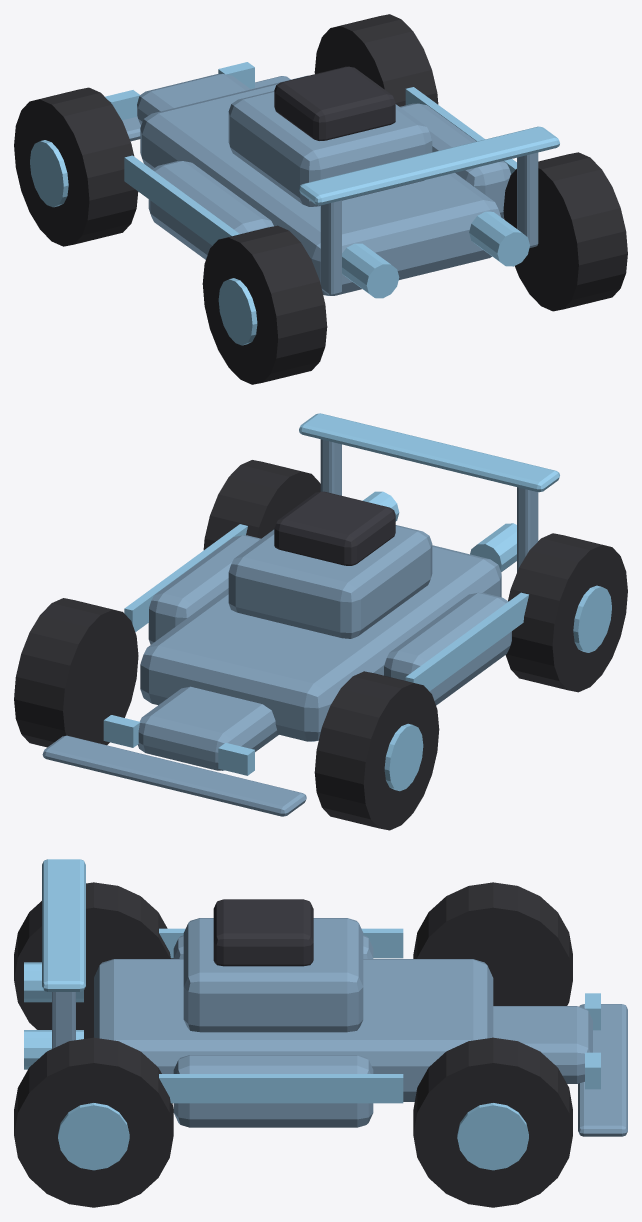
File: Kart_Neon_02.fbx
3 views of the same model, one above another, from view 1: azimuth 30°, elevation 25°; view 2: azimuth 150°, elevation 25°; view 3: azimuth 270°, elevation 25° (orthographic). The views are drawn at different scales.
Visible parts, largest first — view 1: Chassis, Wheel_3, Wheel_1, Wheel_2, Cockpit, Wheel_0, RearWing, Seat, PodRight, StripRight, PodLeft, Nose (+10 smaller); view 2: Chassis, Cockpit, Wheel_0, Wheel_2, Wheel_3, Nose, FrontWing, RearWing, Seat, Wheel_1, PodRight, PodLeft (+9 smaller); view 3: Chassis, Wheel_0, Wheel_1, Cockpit, Wheel_2, Wheel_3, PodLeft, StripLeft, Seat, RearWing, Nose, FrontWing (+7 smaller).
Boxes of the visible parts, <box> form: Chassis: <box>140,75,500,295</box>; Wheel_3: <box>202,225,327,384</box>; Wheel_1: <box>503,152,627,311</box>; Wheel_2: <box>14,87,138,246</box>; Cockpit: <box>228,91,432,206</box>; Wheel_0: <box>314,14,438,106</box>; RearWing: <box>299,126,559,205</box>; Seat: <box>274,66,395,140</box>; PodRight: <box>148,161,273,259</box>; StripRight: <box>124,155,239,245</box>; PodLeft: <box>400,103,511,218</box>; Nose: <box>137,73,250,125</box>; Chassis: <box>140,545,501,741</box>; Cockpit: <box>228,525,432,638</box>; Wheel_0: <box>14,598,138,747</box>; Wheel_2: <box>314,671,439,830</box>; Wheel_3: <box>505,533,627,692</box>; Nose: <box>138,686,278,770</box>; FrontWing: <box>42,735,306,816</box>; RearWing: <box>299,413,559,492</box>; Seat: <box>274,491,395,565</box>; Wheel_1: <box>203,460,320,549</box>; PodRight: <box>384,592,511,705</box>; PodLeft: <box>148,535,260,644</box>; Chassis: <box>94,959,493,1101</box>; Wheel_0: <box>413,1037,572,1207</box>; Wheel_1: <box>14,1037,173,1207</box>; Cockpit: <box>183,918,363,1032</box>; Wheel_2: <box>413,882,572,1005</box>; Wheel_3: <box>14,882,173,1038</box>; PodLeft: <box>173,1055,373,1127</box>; StripLeft: <box>159,1074,403,1103</box>; Seat: <box>213,899,313,966</box>; RearWing: <box>42,859,85,991</box>; Nose: <box>493,1006,592,1083</box>; FrontWing: <box>578,1004,627,1136</box>.
Bounding box in the file's own units: 2.2 × 1.11 × 3.07.
